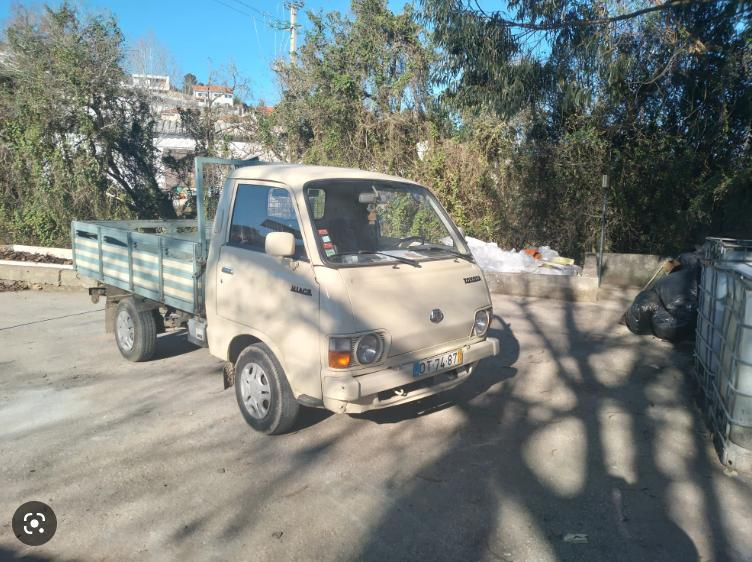vehicle: (71, 156, 500, 435)
